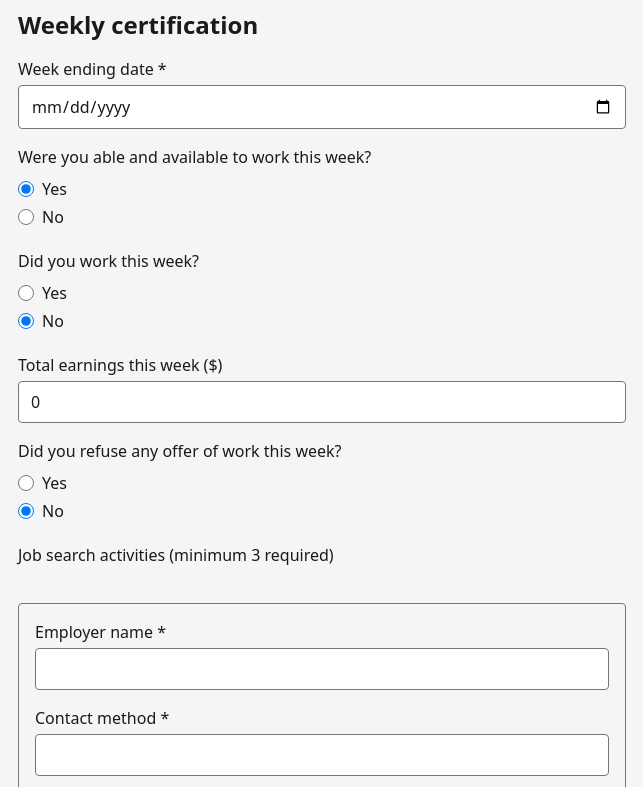
Test case: CertifyPage marketplace prefill › shows a visible "no applications found" status when nothing matches the selected week
The width and height of the screenshot is (643, 787).
Type "2026-08-15" into the date field labelled "Week ending date *".
click(322, 107); type("2026-08-15")  # box [18,85,626,129]
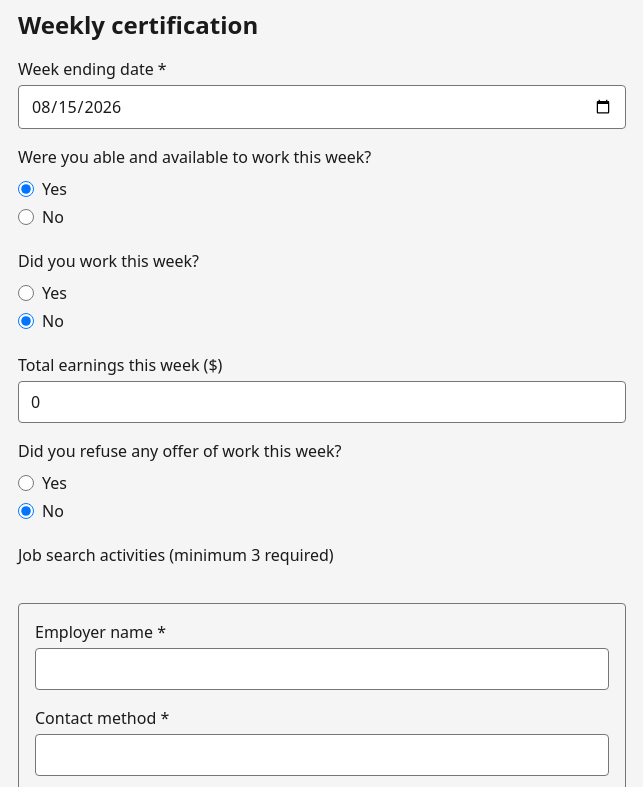
Leave the date field labelled "Week ending date *", box [18,85,626,129]
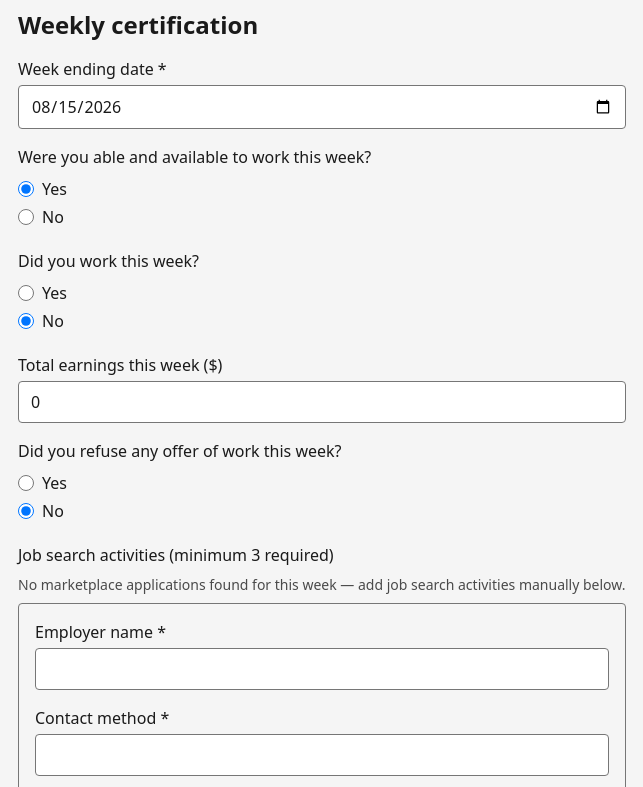
Check: the text "No marketplace applications found for this week — add job search activities manually below." is shown, box [18,575,626,594]
